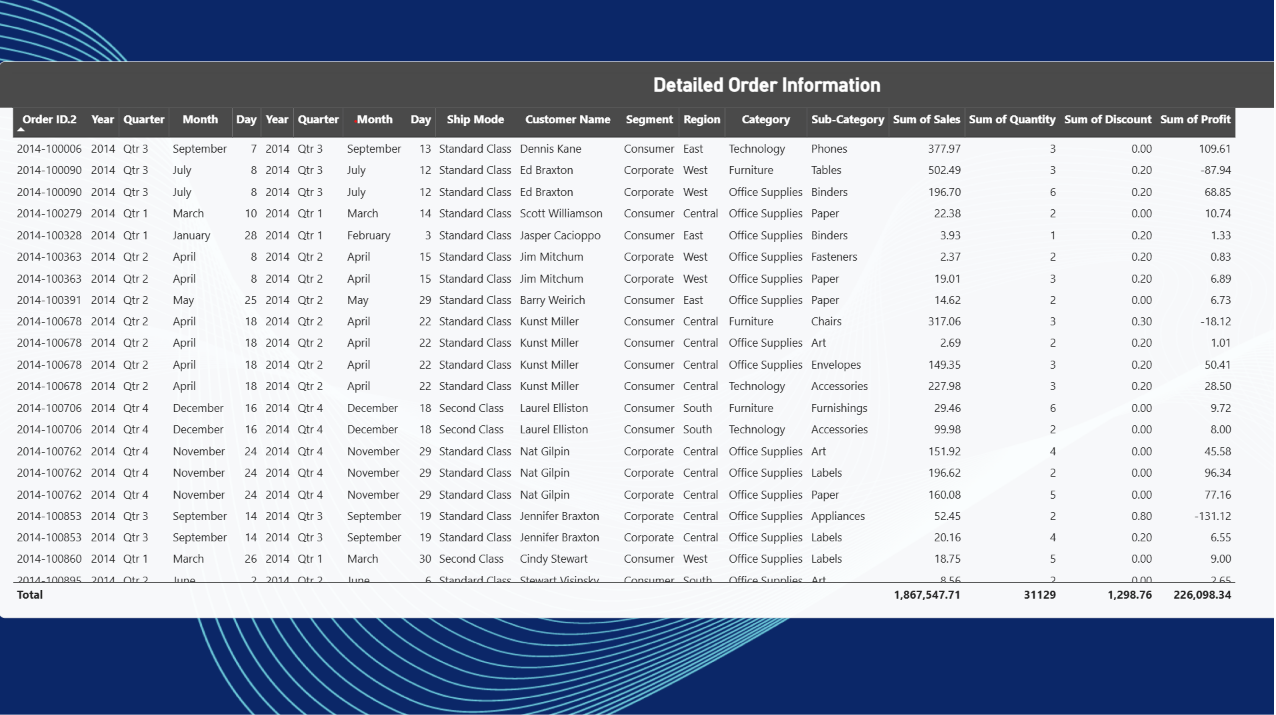

What the dashboard file says about the page in this screenshot:
{"tool":"powerbi","page":{"name":"02 - Order Details","canvas":[1920,1080],"ordinal":1},"visuals":[{"type":"tableEx","title":"Detailed Order Information","fields":{"Values":["Superstore - Dataset.Order ID.2","Superstore - Dataset.Order Date.Variation.Date Hierarchy.Year","Superstore - Dataset.Order Date.Variation.Date Hierarchy.Quarter","Superstore - Dataset.Order Date.Variation.Date Hierarchy.Month","Superstore - Dataset.Order Date.Variation.Date Hierarchy.Day","Superstore - Dataset.Ship Date.Variation.Date Hierarchy.Year","Superstore - Dataset.Ship Date.Variation.Date Hierarchy.Quarter","Superstore - Dataset.Ship Date.Variation.Date Hierarchy.Month","Superstore - Dataset.Ship Date.Variation.Date Hierarchy.Day","Superstore - Dataset.Ship Mode","Superstore - Dataset.Customer Name","Superstore - Dataset.Segment"]},"box":[0,80,1920,696],"z":0}]}

Visuals, with their boxes in screenshot pixels (x1, y1, x2, y2), scaled from the page's 1920x1080 canvas onto the 1276x715 screenshot:
"Detailed Order Information" tableEx: [0,53,1275,514]
